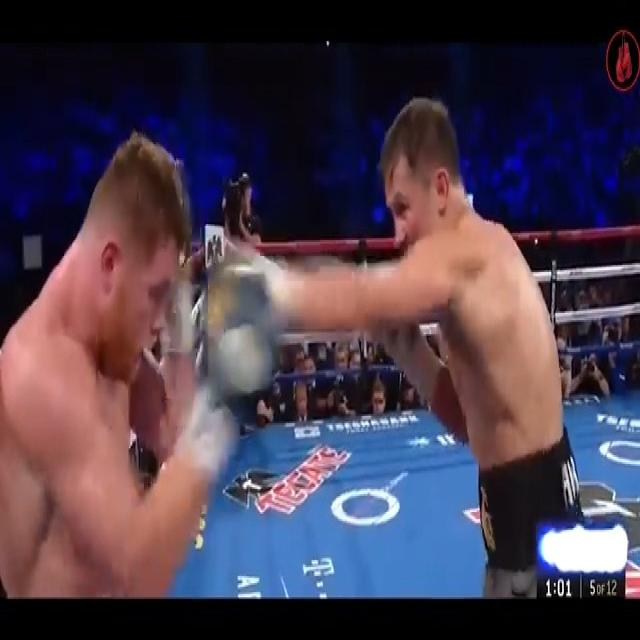Jab: (162, 194, 548, 436)
